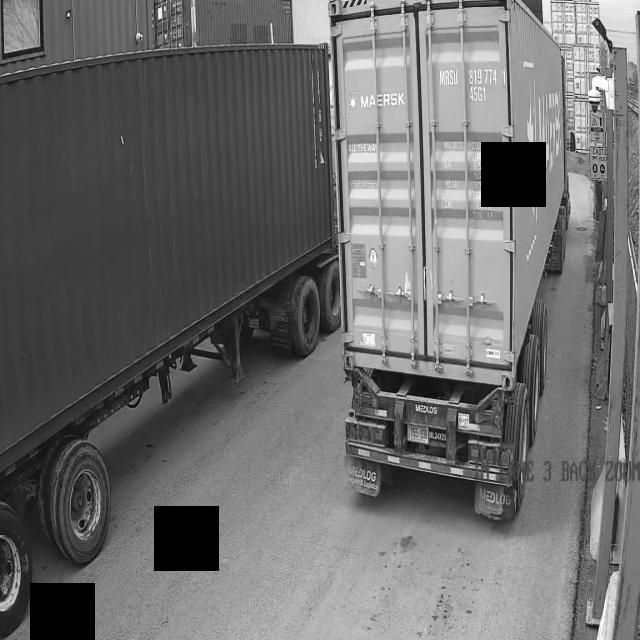container_company_logo: (343, 87, 411, 120)
container_number: (435, 63, 507, 131)
license_plate: (399, 420, 446, 446)
other_container_info: (438, 132, 505, 240)
truck_with_container: (0, 45, 337, 634), (331, 0, 568, 519)
